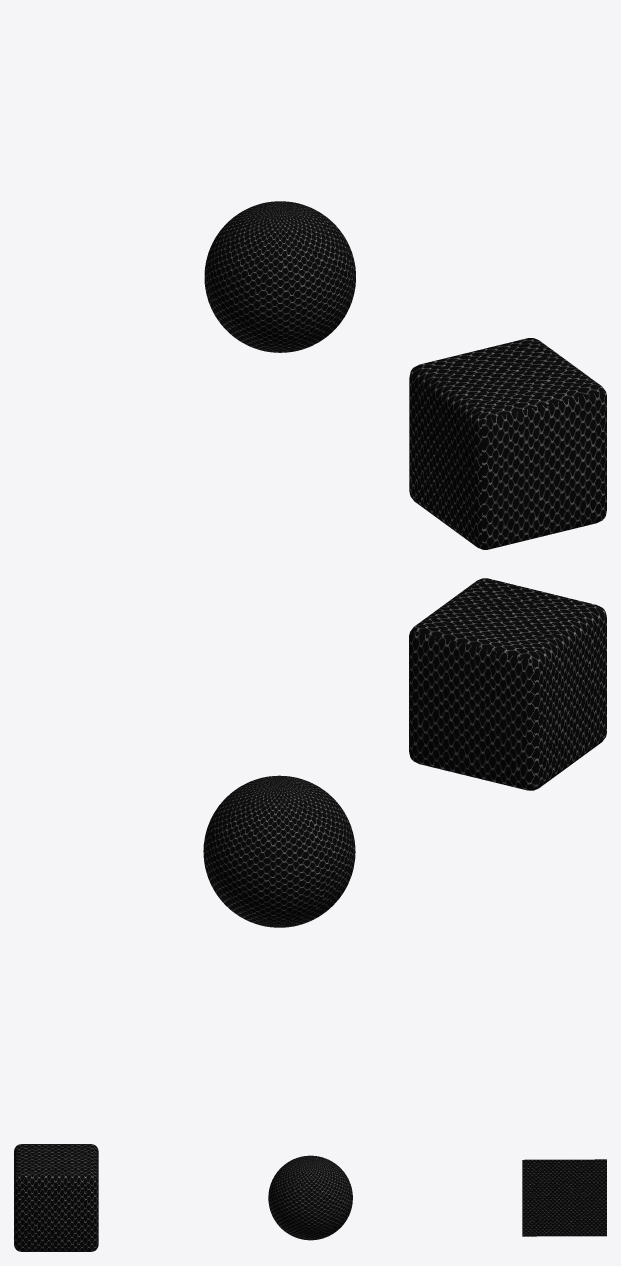
Rendered from metal_grid_tile_texture.glb.
3 views of the same model, one above another, from view 1: azimuth 30°, elevation 25°; view 2: azimuth 150°, elevation 25°; view 3: azimuth 270°, elevation 25° (orthographic). The views are drawn at different scales.
Visible parts, largest first — view 1: Cube, Sphere; view 2: Cube, Sphere; view 3: Cube, Plane, Sphere.
Part boxes in pixels (x1=…): Cube: x1=409, y1=338, x2=606, y2=549; Sphere: x1=204, y1=201, x2=355, y2=352; Cube: x1=409, y1=578, x2=606, y2=790; Sphere: x1=203, y1=775, x2=355, y2=927; Cube: x1=14, y1=1144, x2=98, y2=1251; Plane: x1=522, y1=1159, x2=606, y2=1236; Sphere: x1=268, y1=1155, x2=352, y2=1240.
Size of the model in its own units: 2 by 2 by 14.01.
Materials: 1 (1 with a texture image).
